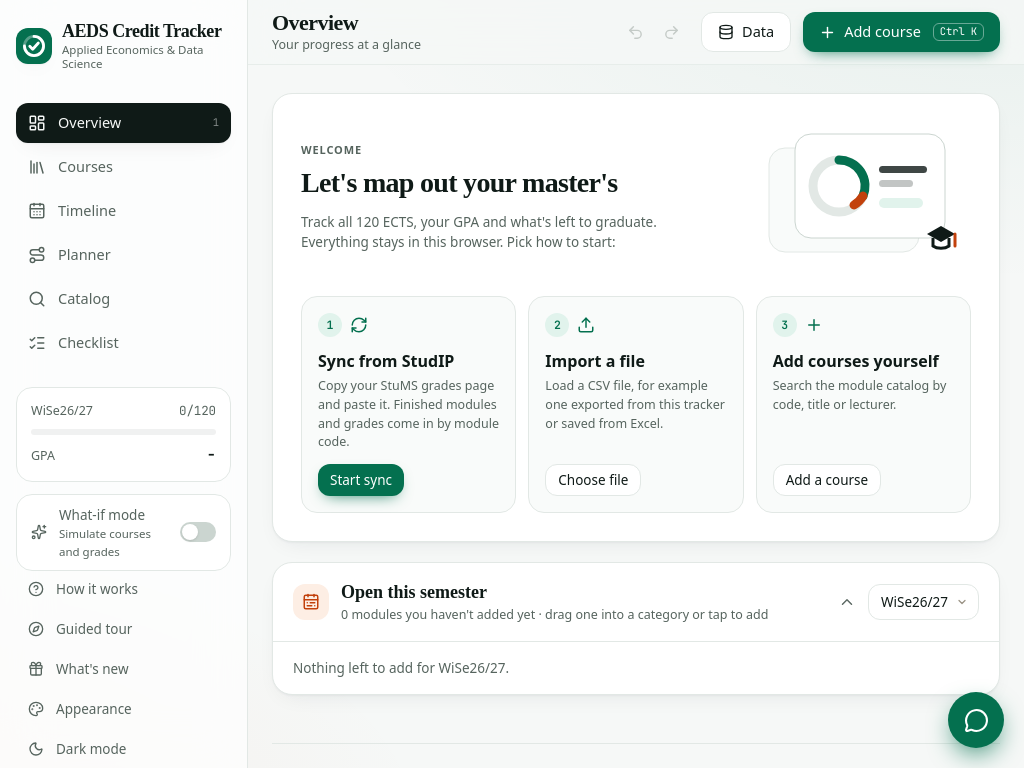
Test: navigation › welcomes a new user with three ways to start
Expected: the heading "Overview" is shown, [272, 10, 358, 35]
Expected: the number of list items is 3, [301, 296, 516, 513]; [528, 296, 744, 513]; [756, 296, 971, 513]
Click the button "Add a course" at point(827, 480), box [773, 464, 881, 496]
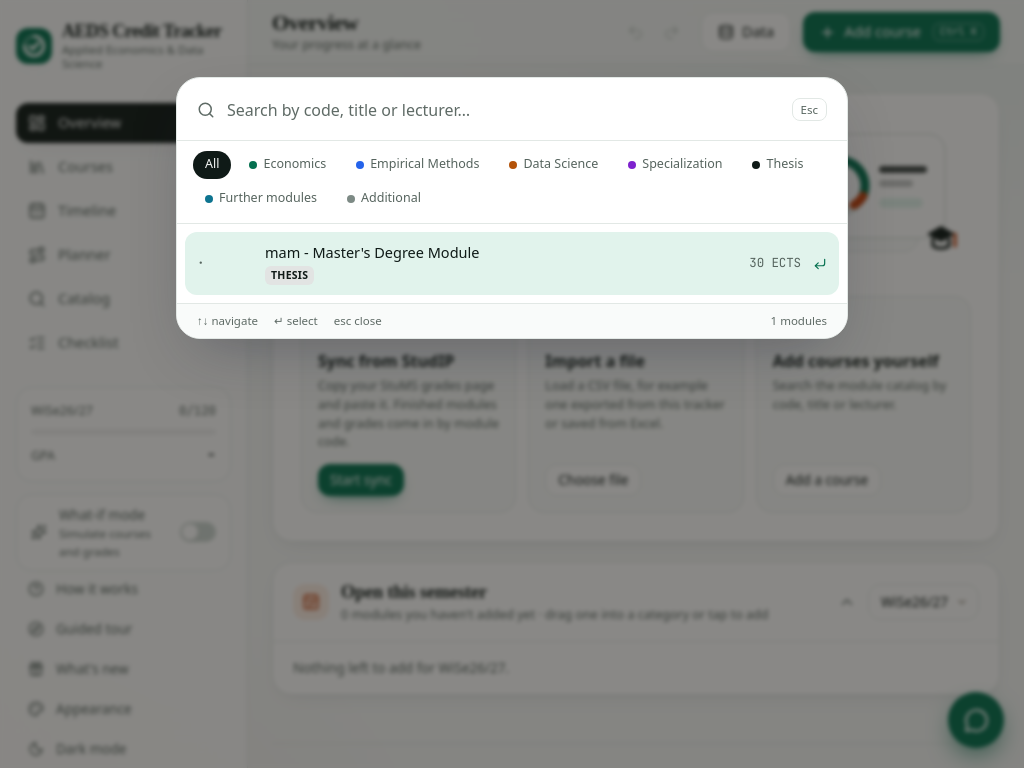
Now the dialog named "Add a course" is shown, box [176, 77, 848, 339]
Press Escape
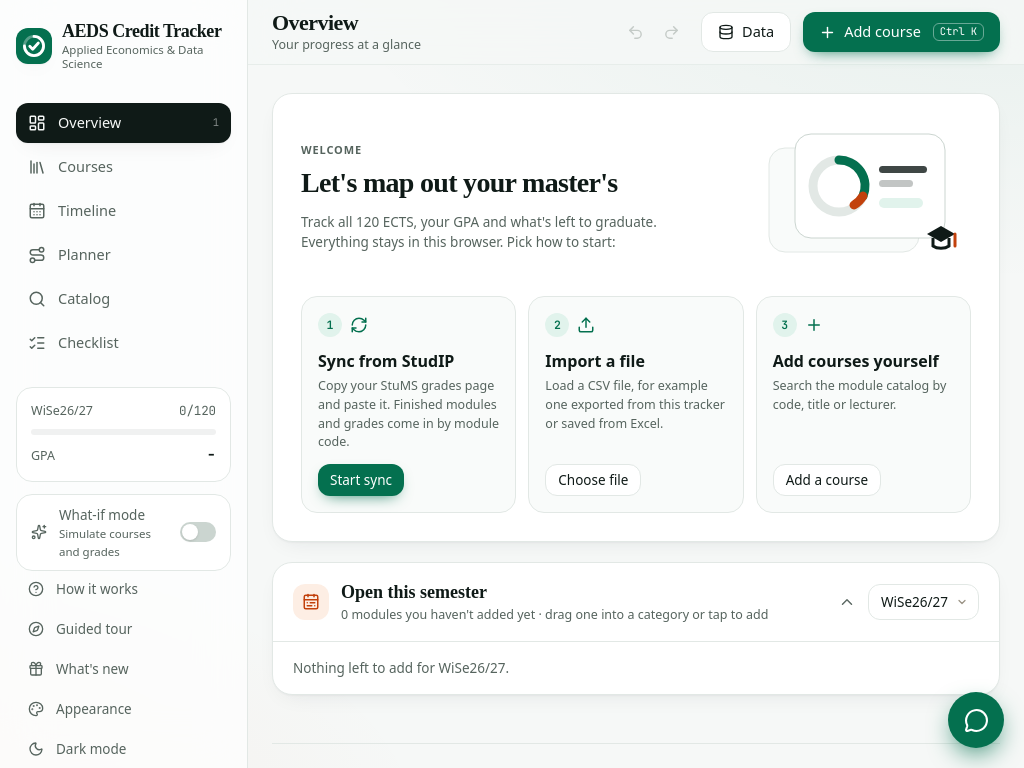
Click the button "Start sync" at point(361, 480), box [318, 464, 404, 496]
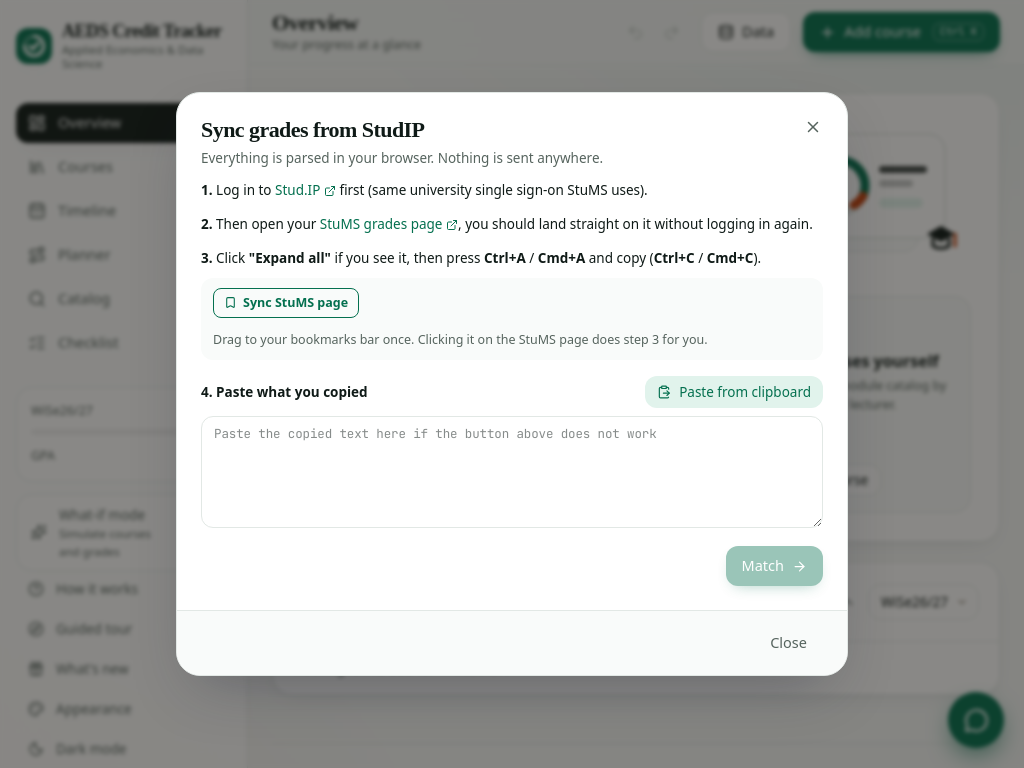
Now the dialog "Sync grades from StudIP" is shown, box [176, 92, 848, 676]
